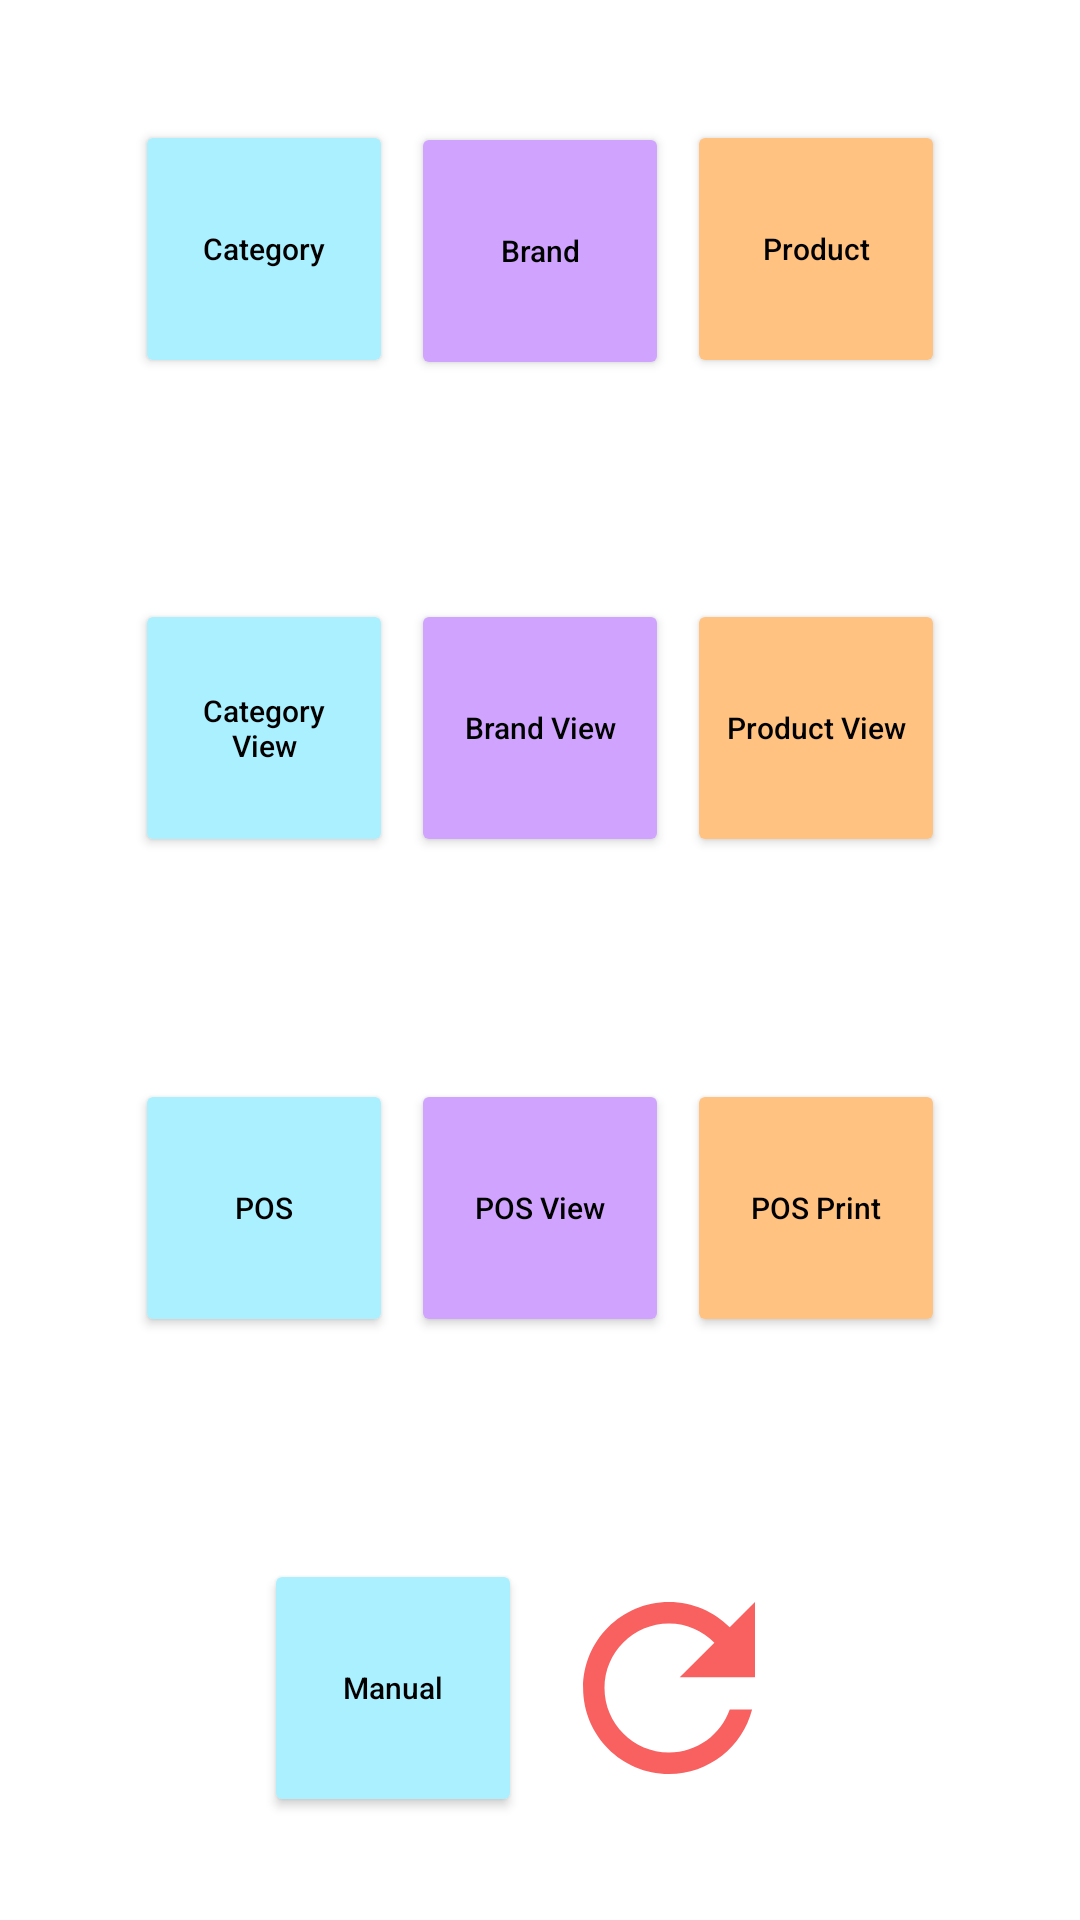

Icon click points for this 1080 x 1920 phone screenshot, format (x,y):
refresh: (669,1688)
